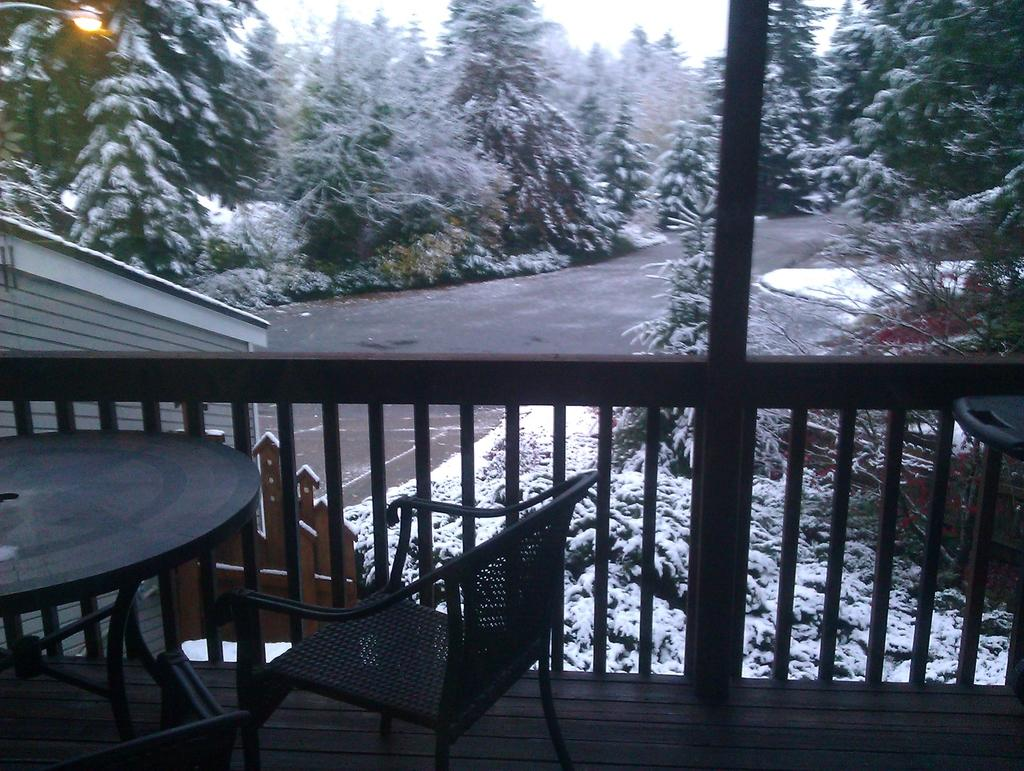Chair: (211, 465, 605, 758)
